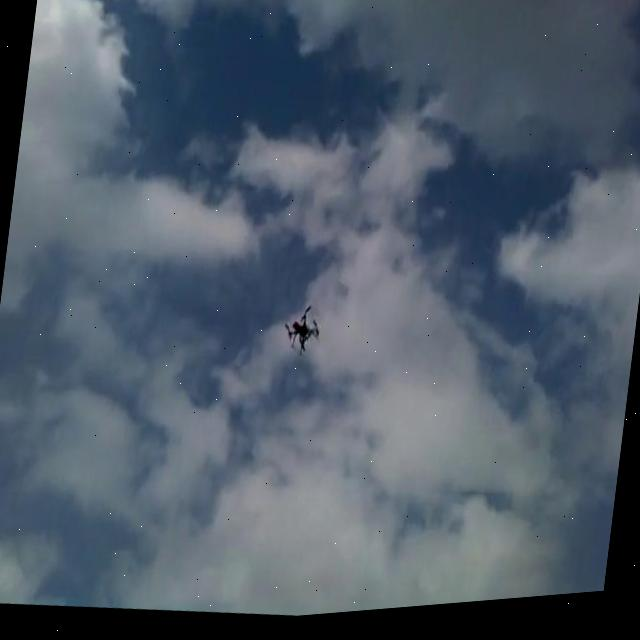drone: (279, 304, 325, 362)
